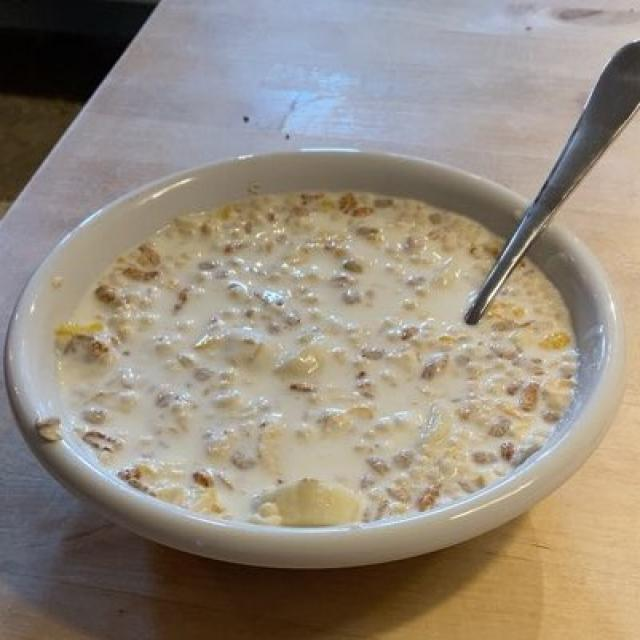banana: (256, 479, 355, 518)
birchermuesli: (61, 190, 575, 522)
